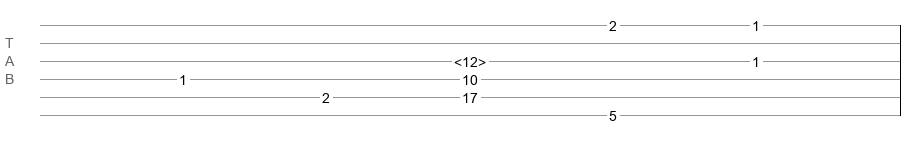1: (179, 72, 187, 82), (752, 54, 760, 64), (752, 18, 760, 28)
10: (462, 72, 478, 82)
17: (462, 90, 478, 100)
2: (322, 90, 330, 100), (609, 18, 617, 28)
5: (609, 108, 617, 118)
harmonic: (454, 54, 486, 64)
